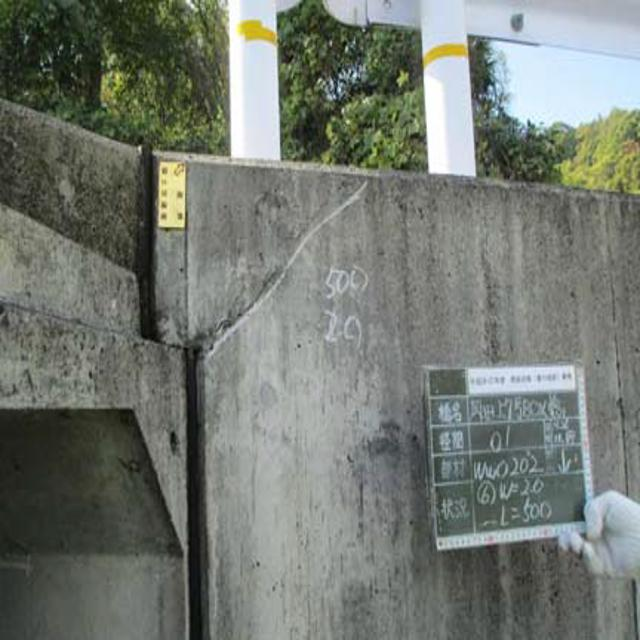crack: (200, 153, 401, 358)
